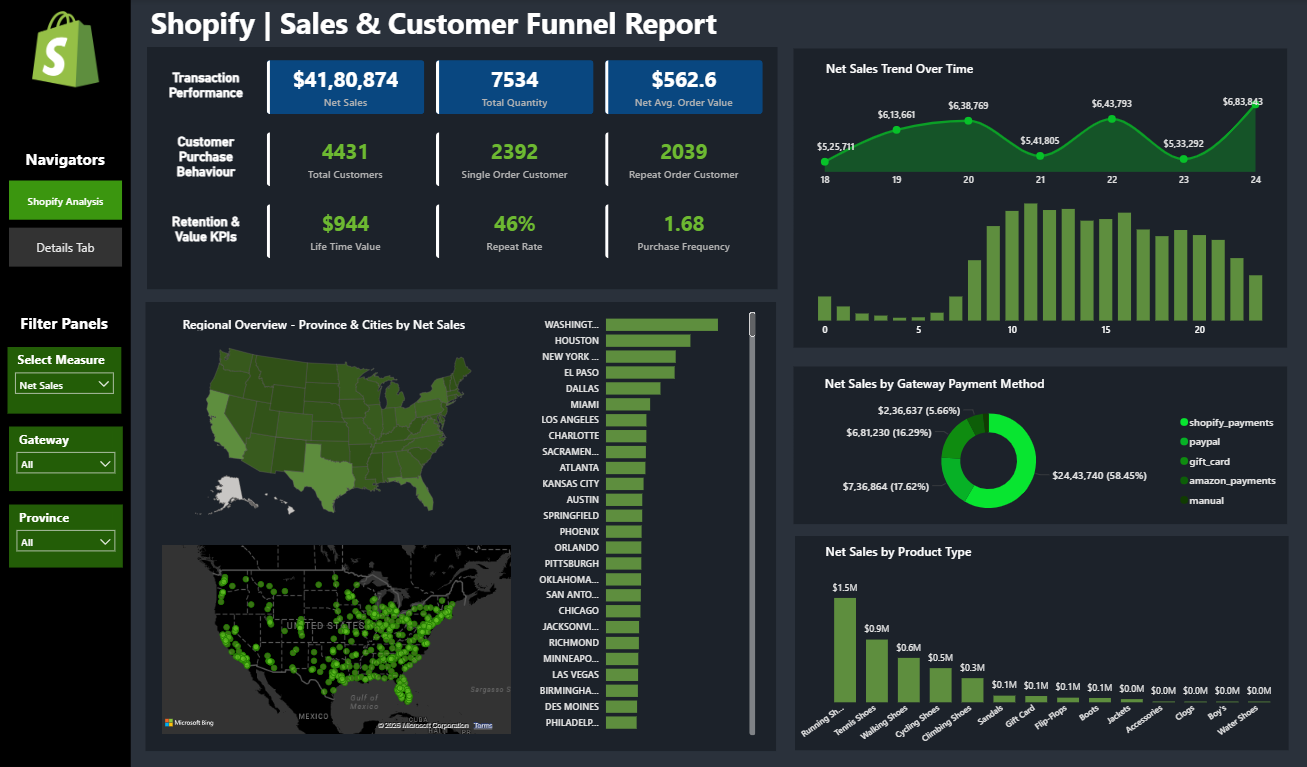

What the dashboard file says about the page in this screenshot:
{"tool":"powerbi","page":{"name":"Shopify Analysis","canvas":[1700,1000],"ordinal":0},"visuals":[{"type":"shape","box":[0,0,170,998.9],"z":0},{"type":"textbox","box":[191.2,0,893.4,62.4],"z":1000},{"type":"shape","box":[190.2,62.7,820,315],"z":2000},{"type":"cardVisual","fields":{"Data":["shopify_sales.Net Sales","shopify_sales.Total Quantity","shopify_sales.Net Avg. Order Value"]},"box":[330,62,680,104],"z":3000},{"type":"cardVisual","title":"Transaction Performance","fields":{"Data":["shopify_sales.Transaction Perf"]},"box":[204,92,126,44],"z":4000},{"type":"cardVisual","fields":{"Data":["shopify_sales.Total Customers","shopify_sales.Single Order Customer","shopify_sales.Repeat Order Customer"]},"box":[330,156,680,104],"z":5000},{"type":"cardVisual","title":"Customer Purchase Behaviour","fields":{"Data":["shopify_sales.Transaction Perf"]},"box":[204,176,126,64],"z":6000},{"type":"cardVisual","fields":{"Data":["shopify_sales.Life Time Value","shopify_sales.Repet Rate","shopify_sales.Purchase Frequency"]},"box":[330,250,680,104],"z":7000},{"type":"cardVisual","title":"Retention & Value KPIs","fields":{"Data":["shopify_sales.Transaction Perf"]},"box":[204,278,126,50],"z":8000},{"type":"shape","box":[190,394,820,584],"z":9000},{"type":"shapeMap","fields":{"Value":["shopify_sales.Net Sales"],"Category":["shopify_sales.Billing Address Province"]},"box":[204.3,437,456.5,250],"z":10000},{"type":"slicer","fields":{"Values":["Select Measure 2.Select Measure"]},"box":[10.6,452.3,147.7,86.4],"z":11000},{"type":"map","fields":{"Category":["shopify_sales.Location"]},"box":[204.3,704.3,465.2,256.5],"z":12000},{"type":"barChart","fields":{"Y":["shopify_sales.Net Sales"],"Category":["shopify_sales.CITY"]},"box":[685.2,393.4,302.6,568.5],"z":13000},{"type":"cardVisual","title":"Customer Purchase Behaviour","fields":{"Data":["shopify_sales.Map Title"]},"box":[170.8,393.4,499.3,54],"z":14000},{"type":"shape","box":[1031,64.8,641.9,389.1],"z":15000},{"type":"areaChart","fields":{"Y":["shopify_sales.Net Sales"],"Category":["shopify_sales.Invoice Date.Variation.Date Hierarchy.Day"]},"box":[1056.9,114.6,590.1,138.3],"z":16000},{"type":"columnChart","fields":{"Y":["shopify_sales.Net Sales"],"Category":["shopify_sales.Hour"]},"box":[1056.9,235.6,590.1,211.8],"z":17000},{"type":"cardVisual","title":"Trend Over Title","fields":{"Data":["shopify_sales.Trend Title"]},"box":[1011.6,62.7,315.6,51.9],"z":18000},{"type":"shape","box":[1031,477.7,641.9,205],"z":19000},{"type":"donutChart","fields":{"Y":["shopify_sales.Net Sales"],"Category":["shopify_sales.Gateway"]},"box":[1031,516.6,641.9,166.4],"z":20000},{"type":"cardVisual","title":"Trend Over Title","fields":{"Data":["shopify_sales.Gateway Title"]},"box":[1009.4,469,415,60.5],"z":21000},{"type":"shape","box":[1033.2,698.1,641.9,278.8],"z":22000},{"type":"columnChart","fields":{"Y":["shopify_sales.Net Sales"],"Category":["shopify_sales.Product Type"]},"box":[1033.2,737,639.8,239.9],"z":23000},{"type":"cardVisual","title":"Trend Over Title","fields":{"Data":["shopify_sales.Product Title"]},"box":[987.8,687.3,363.1,60.5],"z":24000},{"type":"image","box":[10.8,15.1,147,99.4],"z":25000},{"type":"slicer","fields":{"Values":["shopify_sales.Gateway"]},"box":[11.4,556.8,147.7,84.1],"z":26000},{"type":"slicer","fields":{"Values":["shopify_sales.Billing Address Province"]},"box":[11.4,656.8,147.7,81.8],"z":27000},{"type":"pageNavigator","box":[11.4,236.4,147.7,113.6],"z":28000},{"type":"cardVisual","title":"Navigators","fields":{"Data":["shopify_sales.Transaction Perf"]},"box":[21.7,195,126.7,25],"z":29000},{"type":"cardVisual","title":"Filter Panels","fields":{"Data":["shopify_sales.Transaction Perf"]},"box":[20.5,406.8,127.3,25],"z":30000}]}

Visuals, with their boxes on the page's 1700x1000 design canvas (x1, y1, x2, y2). These are canvas units, not pixel positions in the 1307x767 screenshot, which may show the page scaled, cropped or inside an application window:
shape: 0 0 170 999
textbox: 191 0 1085 62
shape: 190 63 1010 378
cardVisual - shopify_sales.Net Sales x shopify_sales.Total Quantity: 330 62 1010 166
"Transaction Performance" cardVisual: 204 92 330 136
cardVisual - shopify_sales.Total Customers x shopify_sales.Single Order Customer: 330 156 1010 260
"Customer Purchase Behaviour" cardVisual: 204 176 330 240
cardVisual - shopify_sales.Life Time Value x shopify_sales.Repet Rate: 330 250 1010 354
"Retention & Value KPIs" cardVisual: 204 278 330 328
shape: 190 394 1010 978
shapeMap - shopify_sales.Net Sales x shopify_sales.Billing Address Province: 204 437 661 687
slicer - Select Measure 2.Select Measure: 11 452 158 539
map - shopify_sales.Location: 204 704 670 961
barChart - shopify_sales.Net Sales x shopify_sales.CITY: 685 393 988 962
"Customer Purchase Behaviour" cardVisual: 171 393 670 447
shape: 1031 65 1673 454
areaChart - shopify_sales.Net Sales x shopify_sales.Invoice Date.Variation.Date Hierarchy.Day: 1057 115 1647 253
columnChart - shopify_sales.Net Sales x shopify_sales.Hour: 1057 236 1647 447
"Trend Over Title" cardVisual: 1012 63 1327 115
shape: 1031 478 1673 683
donutChart - shopify_sales.Net Sales x shopify_sales.Gateway: 1031 517 1673 683
"Trend Over Title" cardVisual: 1009 469 1424 530
shape: 1033 698 1675 977
columnChart - shopify_sales.Net Sales x shopify_sales.Product Type: 1033 737 1673 977
"Trend Over Title" cardVisual: 988 687 1351 748
image: 11 15 158 114
slicer - shopify_sales.Gateway: 11 557 159 641
slicer - shopify_sales.Billing Address Province: 11 657 159 739
pageNavigator: 11 236 159 350
"Navigators" cardVisual: 22 195 148 220
"Filter Panels" cardVisual: 20 407 148 432
